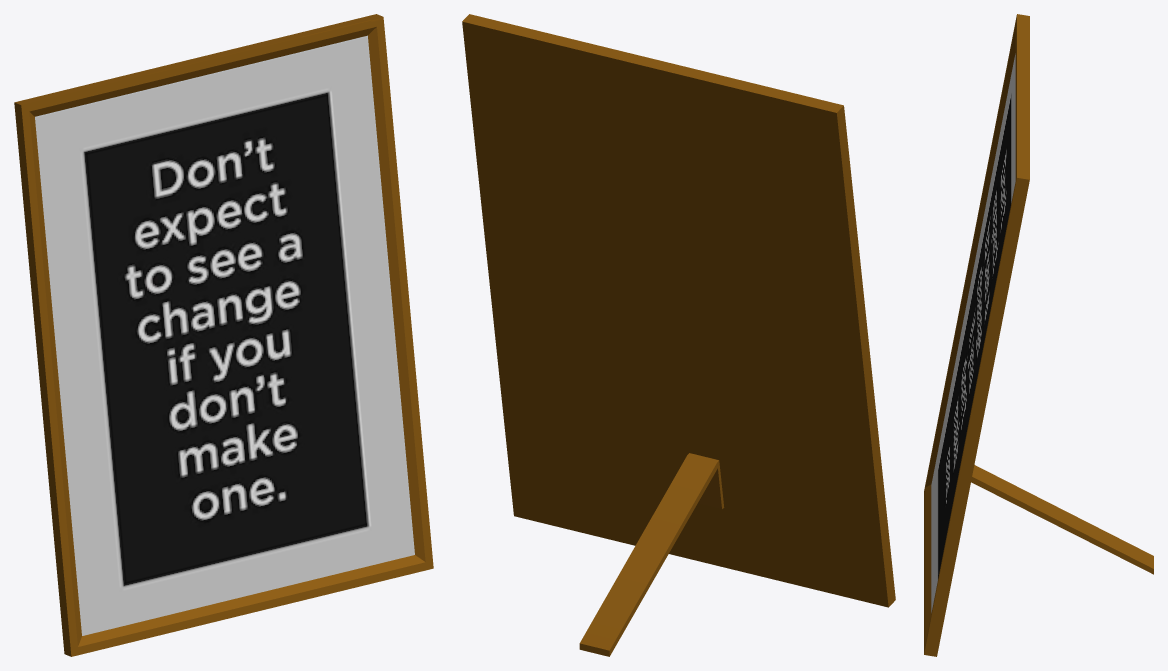
Rendered from photo frame2.FBX.
3 renders of one model, left to right at view 1: azimuth 30°, elevation 25°; view 2: azimuth 150°, elevation 25°; view 3: azimuth 270°, elevation 25°, orthographic. The views are drawn at different scales.
Parts seen in each view (by area): view 1: photo frame2; view 2: photo frame2; view 3: photo frame2.
Part boxes in pixels (x1=…): photo frame2: x1=14, y1=14, x2=433, y2=656; photo frame2: x1=462, y1=14, x2=895, y2=656; photo frame2: x1=924, y1=14, x2=1153, y2=656.
Size of the model in its own units: 8.3 by 4.92 by 11.32.
1 material, 1 textured.
